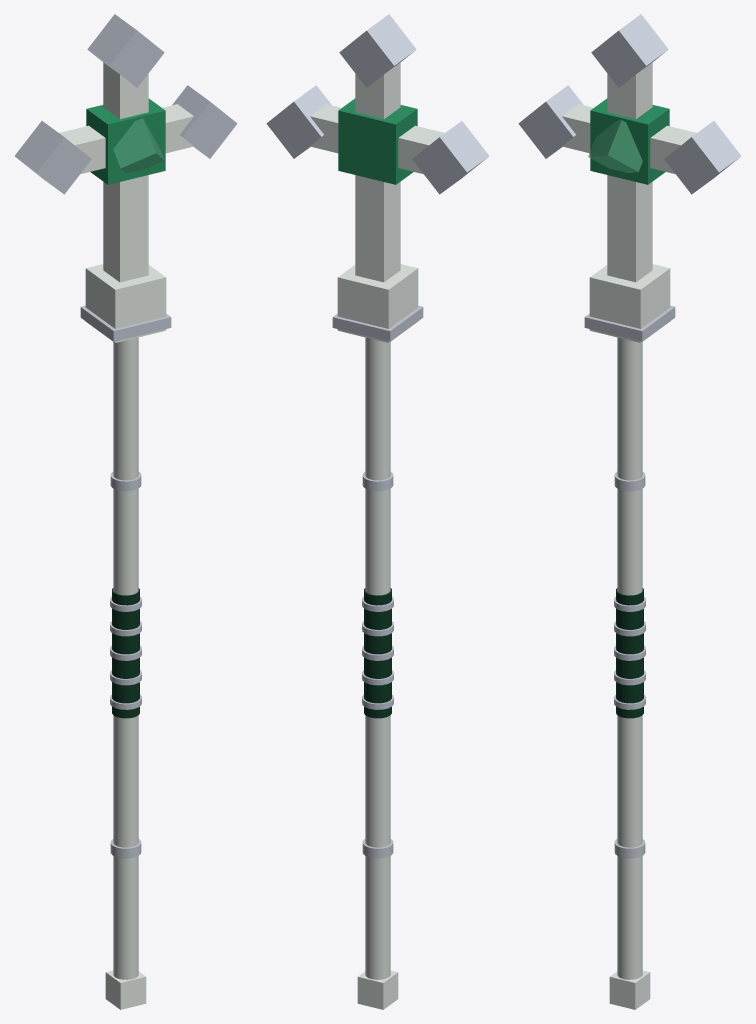
The picture shows the model from 3 angles, left to right: view 1: azimuth 30°, elevation 25°; view 2: azimuth 150°, elevation 25°; view 3: azimuth 330°, elevation 25°; orthographic projection.
Visible parts, largest first — view 1: sacred-rod; view 2: sacred-rod; view 3: sacred-rod.
Part boxes in pixels (left/top/right/bottom): sacred-rod: left=14, top=14, right=237, bottom=1009; sacred-rod: left=266, top=14, right=489, bottom=1009; sacred-rod: left=518, top=14, right=741, bottom=1009.
Bounding box in the file's own units: 0.3364 × 1.57 × 0.1247.
